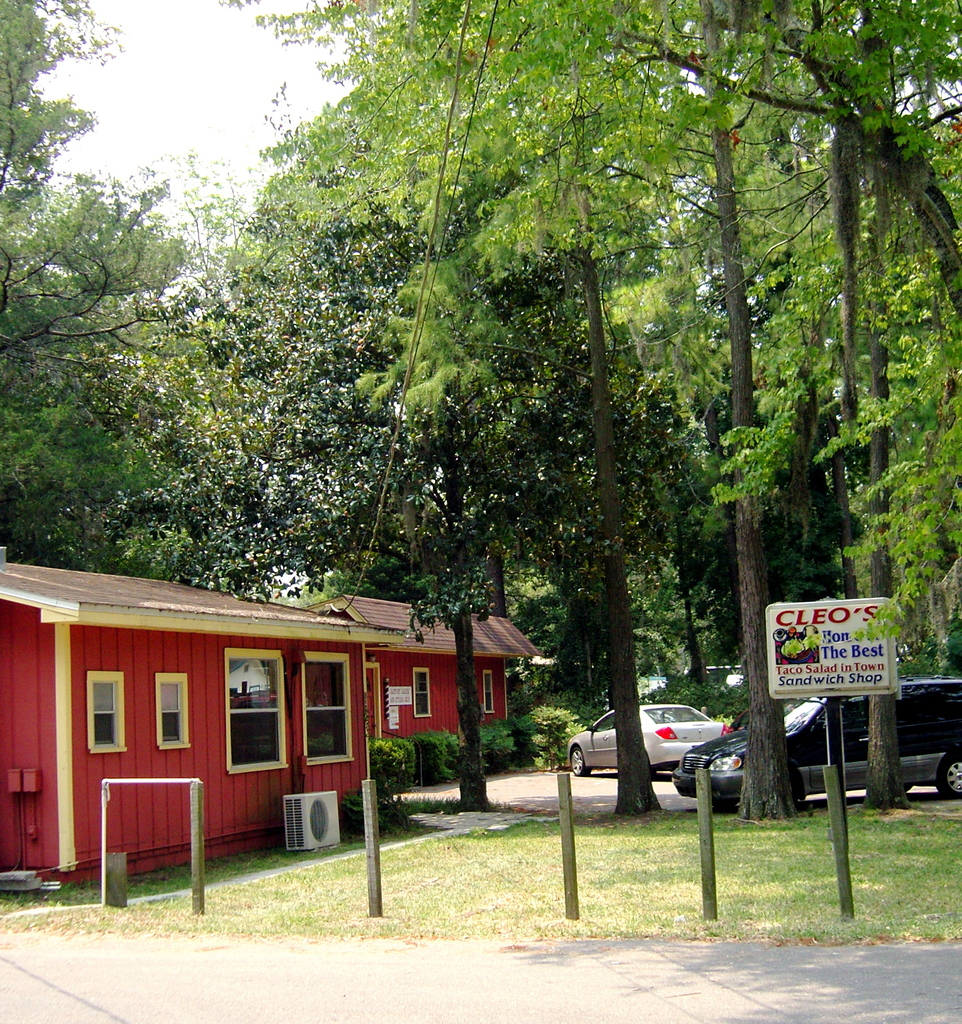Car: (674, 677, 961, 812), (566, 707, 721, 776)
